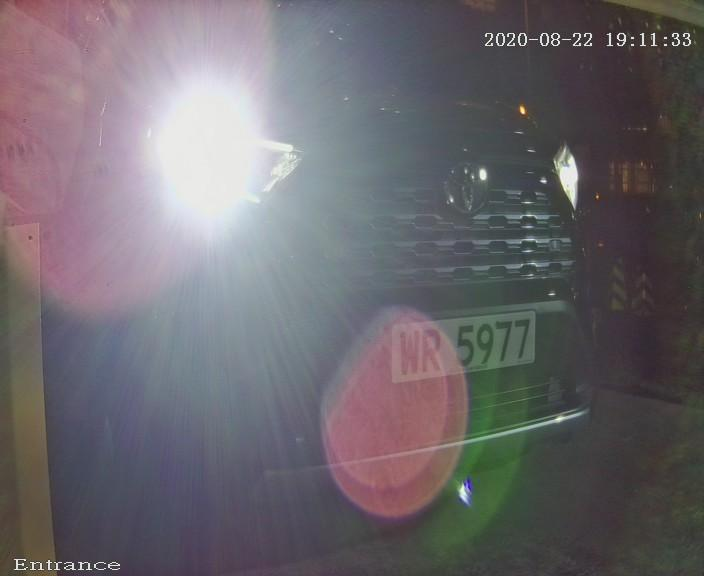Car: (4, 29, 670, 538)
License Plate: (365, 293, 550, 405)
